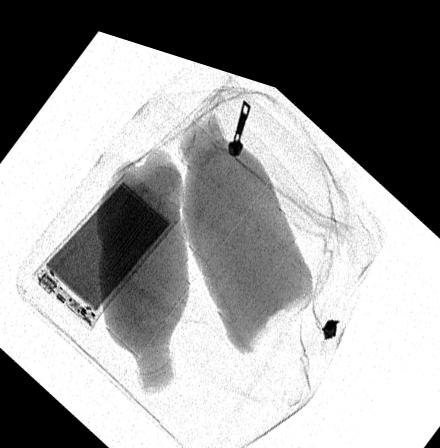Powerbank: (28, 161, 180, 328)
